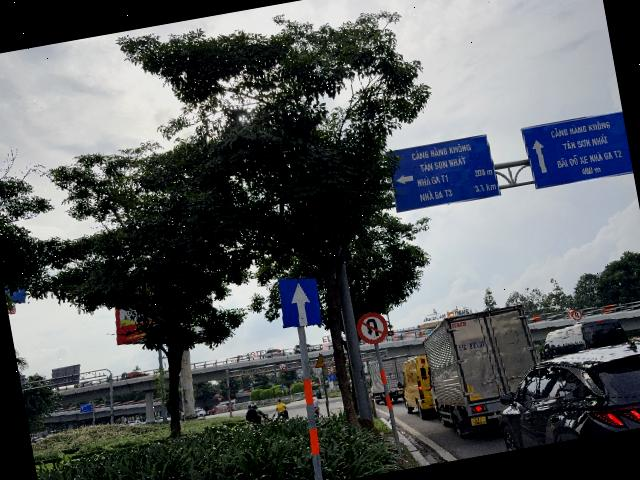cam-quay-dau-xe: (354, 309, 391, 346)
duong-mot-chieu: (274, 272, 324, 332)
